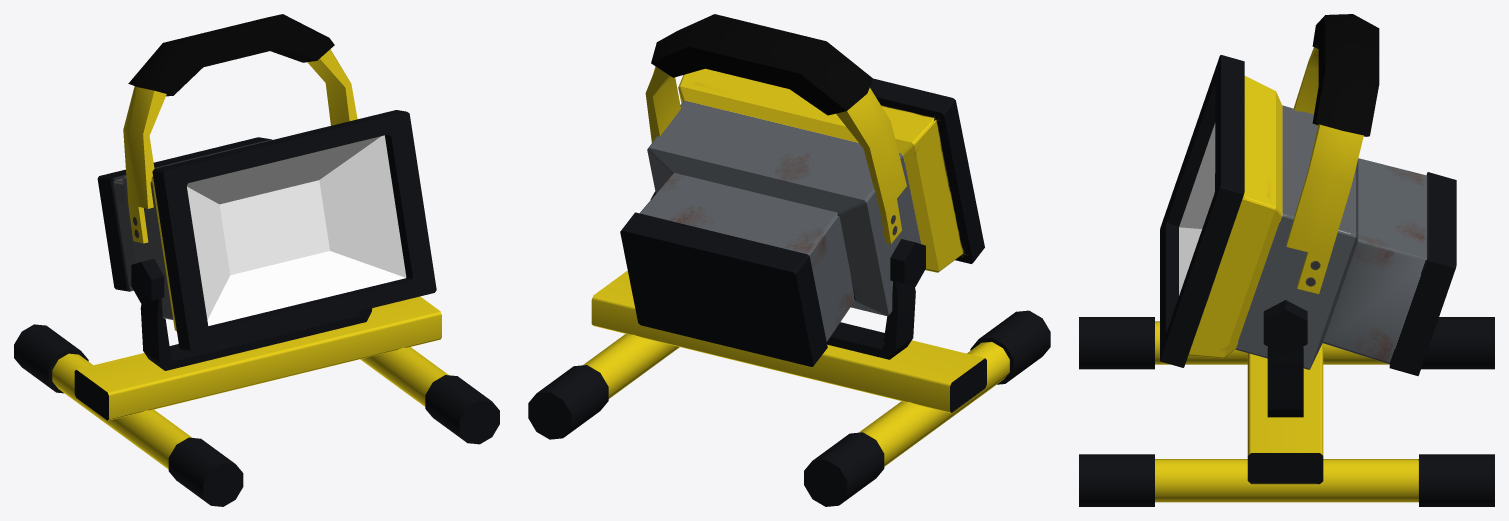
The model's file is floodlightFIX.fbx.
3 views of the same model, side by side, from view 1: azimuth 30°, elevation 25°; view 2: azimuth 150°, elevation 25°; view 3: azimuth 270°, elevation 25° (orthographic). The views are drawn at different scales.
Visible parts, largest first — view 1: Floodlight_Floor; view 2: Floodlight_Floor; view 3: Floodlight_Floor.
Part boxes in pixels (box(x1,y1,x2,y2)): Floodlight_Floor: box(14, 14, 499, 506); Floodlight_Floor: box(528, 14, 1050, 506); Floodlight_Floor: box(1079, 14, 1494, 506).
Bounding box in the file's own units: 51.9 × 53.3 × 51.09.
1 material, 1 textured.
